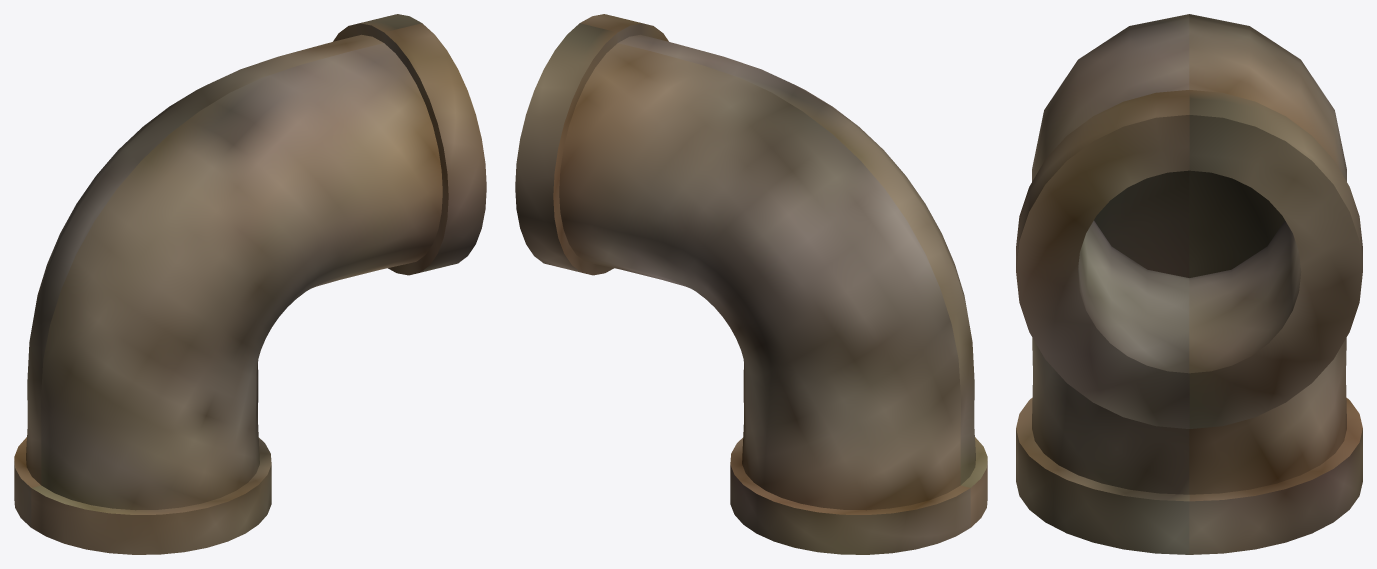
The model's file is pipe-elbow.gltf.
3 renders of one model, left to right at view 1: azimuth 30°, elevation 25°; view 2: azimuth 150°, elevation 25°; view 3: azimuth 270°, elevation 25°, orthographic. The views are drawn at different scales.
Parts seen in each view (by area): view 1: Pipe_1; view 2: Pipe_1; view 3: Pipe_1.
Part boxes in pixels (x1,y1,x2,y2): Pipe_1: (14,14,486,554); Pipe_1: (515,14,987,554); Pipe_1: (1016,14,1362,554).
Bounding box in the file's own units: 0.492 × 0.492 × 0.2812.
1 material, 1 textured.
